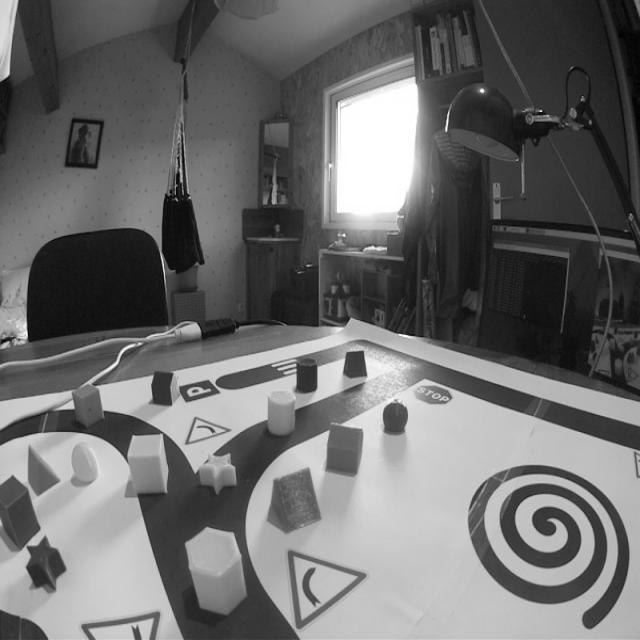ball: (70, 439, 102, 489), (381, 398, 410, 438)
cube: (0, 472, 43, 555), (126, 430, 172, 498), (71, 384, 106, 429)
cylinder: (265, 387, 298, 441), (295, 353, 320, 395)
hexagon: (182, 523, 252, 617)
home: (325, 418, 365, 476), (150, 367, 182, 406)
nest: (459, 456, 633, 634)
rightTurn: (283, 543, 373, 634)
star: (24, 533, 70, 595), (194, 450, 238, 497)
triangle: (26, 441, 64, 499), (342, 348, 369, 380)
